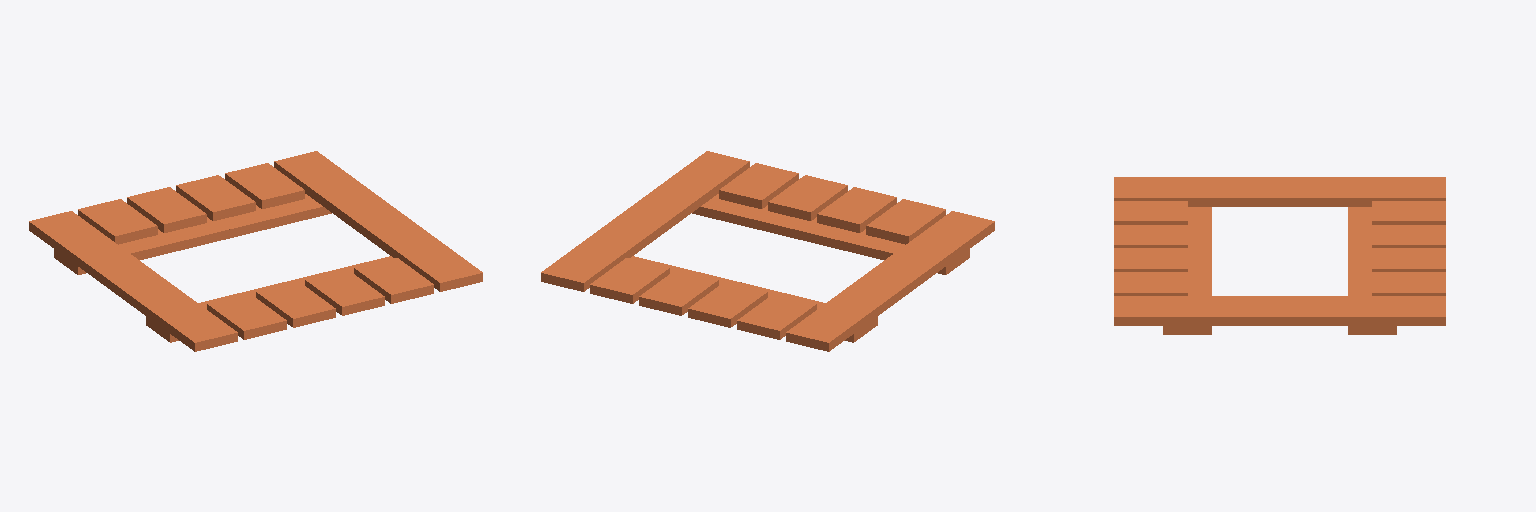
Rendered from planksOpening.obj.
The picture shows the model from 3 angles: view 1: azimuth 30°, elevation 25°; view 2: azimuth 150°, elevation 25°; view 3: azimuth 270°, elevation 25°; orthographic projection.
Visible parts, largest first — view 1: planksOpening; view 2: planksOpening; view 3: planksOpening.
Boxes of the visible parts, box(x1,y1,x2,y2) form: planksOpening: box(29, 151, 482, 351); planksOpening: box(541, 151, 994, 351); planksOpening: box(1114, 177, 1445, 334).
Bounding box in the file's own units: 1 × 0.06 × 1.